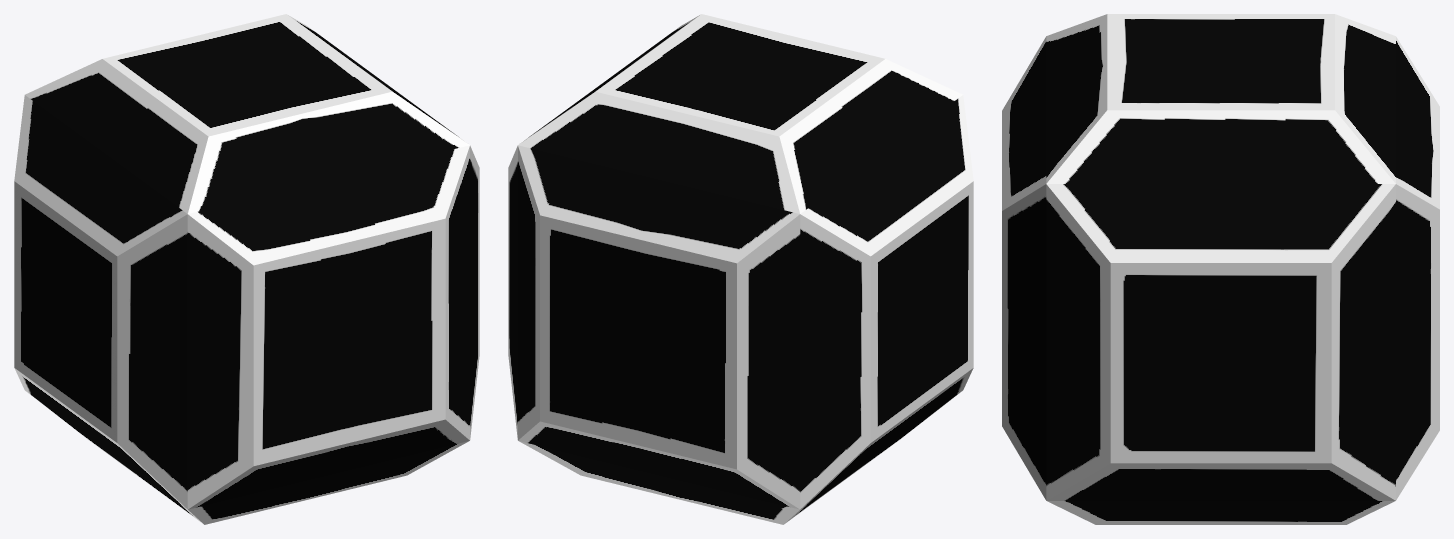
Rendered from cube1_texture_glossy.fbx.
3 views of the same model, side by side, from view 1: azimuth 30°, elevation 25°; view 2: azimuth 150°, elevation 25°; view 3: azimuth 270°, elevation 25° (orthographic). The views are drawn at different scales.
Parts seen in each view (by area): view 1: Cube; view 2: Cube; view 3: Cube.
Boxes of the visible parts, box(x1,y1,x2,y2) form: Cube: box(14, 14, 479, 524); Cube: box(508, 14, 973, 524); Cube: box(1002, 14, 1439, 524).
Size of the model in its own units: 257 by 259 by 250.
Materials: 1 (1 with a texture image).
